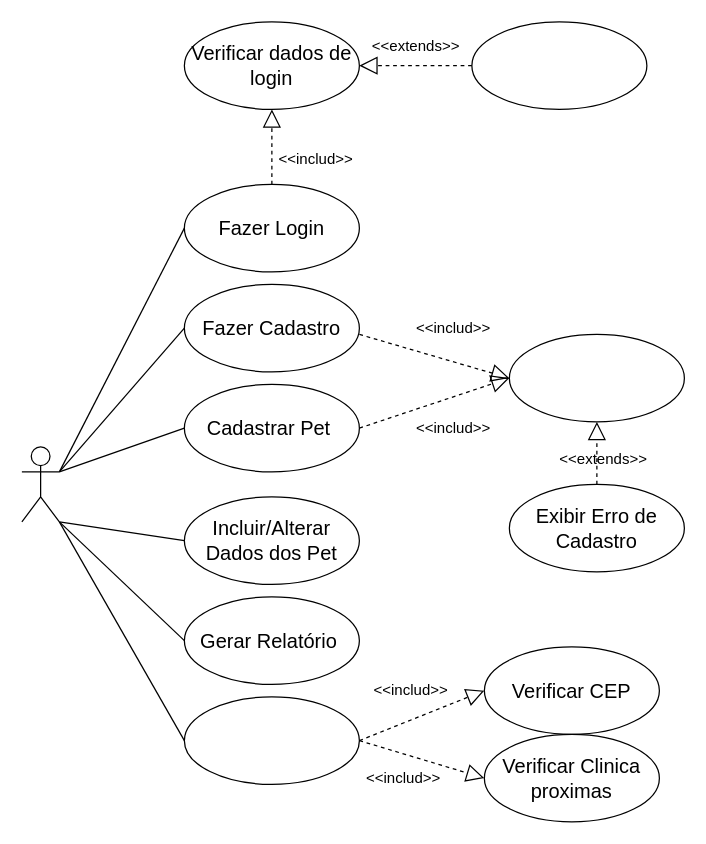
The diagram is 706 pixels wide and 844 high, and some of its shapes have lost their labels. The centre of each missing label's shape, as x and y in pixels:
Actor: point 40,484
Buscar por CEP: point 271,740
Exibir Erro de Login: point 559,65
Verificar pre existência de dados: point 596,377
